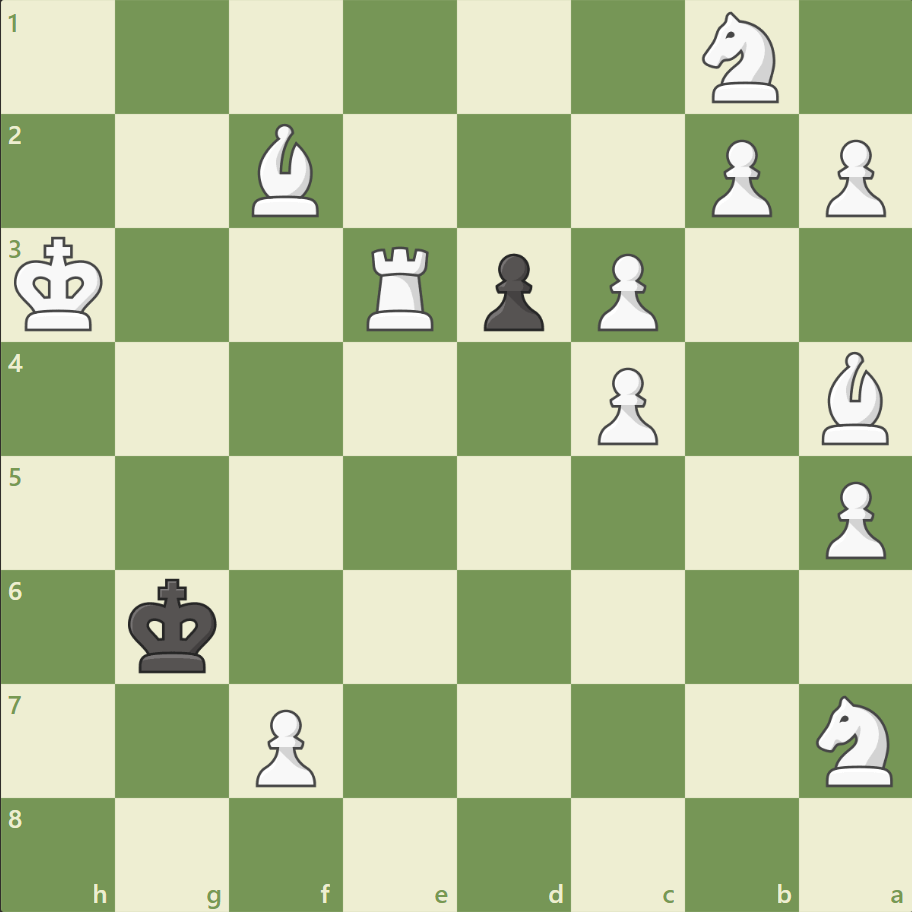B: (812, 347, 896, 449), (244, 120, 328, 222)
K: (11, 231, 111, 339)
N: (806, 688, 903, 791), (692, 7, 789, 110)
P: (247, 700, 322, 791), (701, 132, 776, 223), (815, 473, 889, 564), (588, 359, 662, 450), (588, 246, 662, 337), (815, 132, 889, 223)
R: (360, 239, 442, 336)
k: (124, 571, 224, 679)
p: (474, 246, 549, 337)
